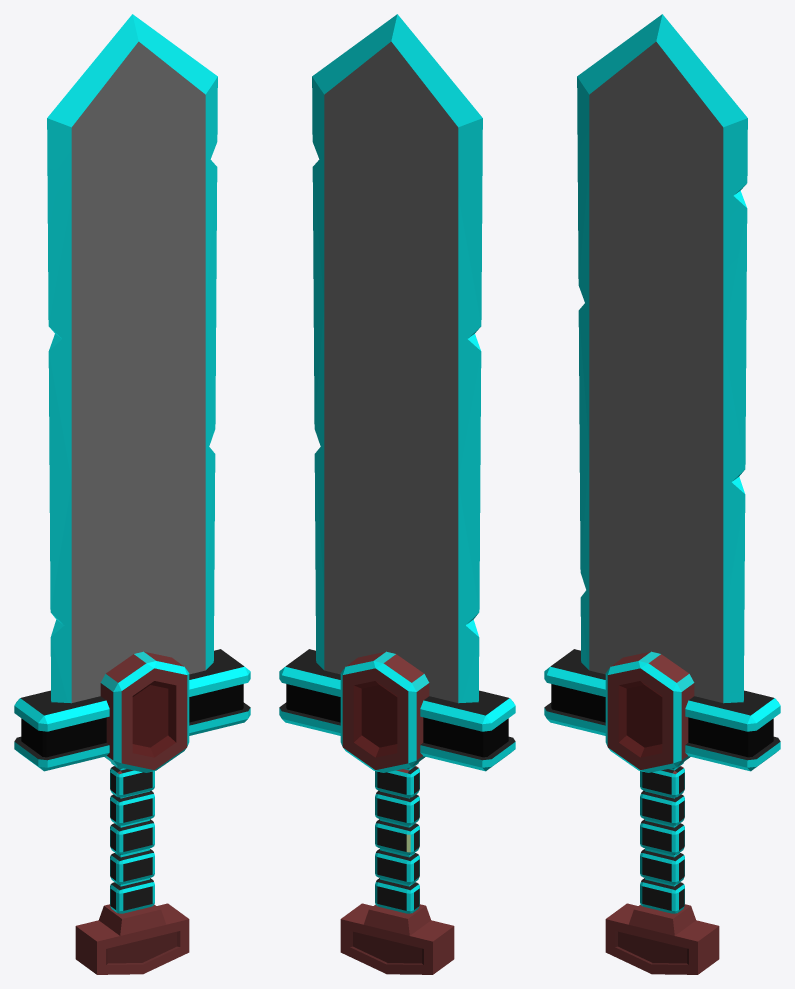
Rendered from LowPolysword.fbx.
3 renders of one model, left to right at view 1: azimuth 30°, elevation 25°; view 2: azimuth 150°, elevation 25°; view 3: azimuth 330°, elevation 25°, orthographic.
Visible parts, largest first — view 1: Sword; view 2: Sword; view 3: Sword.
Boxes of the visible parts, left/top/right/bottom form: Sword: left=14, top=14, right=250, bottom=974; Sword: left=279, top=14, right=515, bottom=974; Sword: left=544, top=14, right=780, bottom=974.
Bounding box in the file's own units: 60.83 × 261 × 21.83.
Materials: 1 (1 with a texture image).
